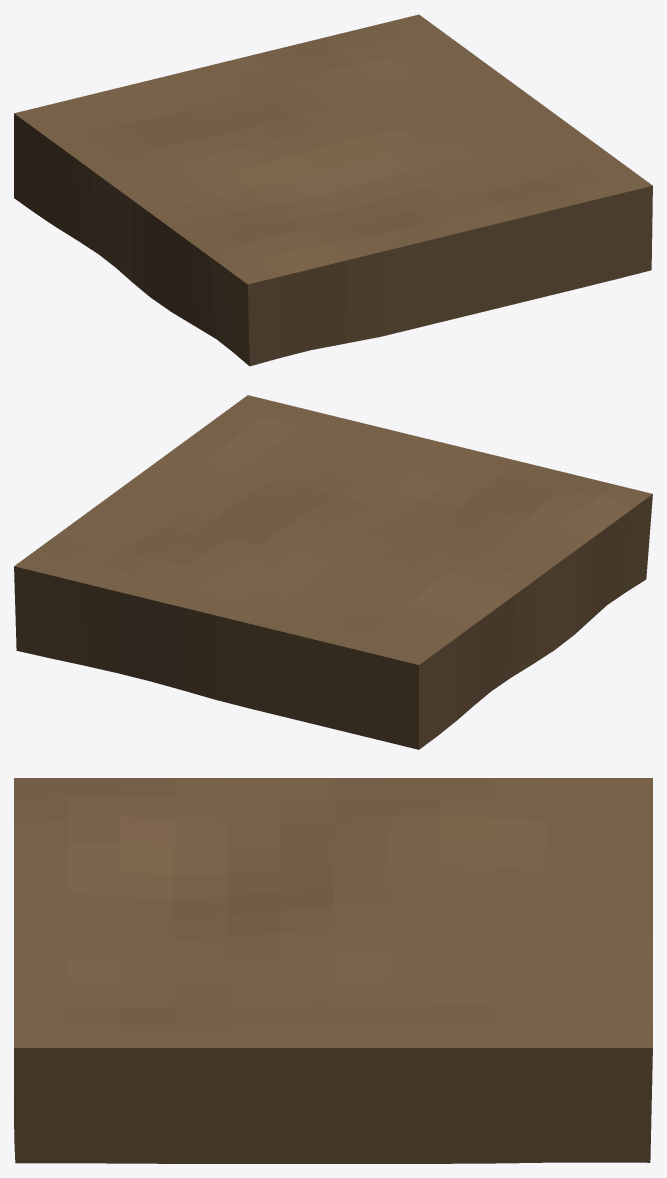
File: dirt_03.glb
3 views of the same model, one above another, from view 1: azimuth 30°, elevation 25°; view 2: azimuth 150°, elevation 25°; view 3: azimuth 270°, elevation 25° (orthographic). The views are drawn at different scales.
Parts seen in each view (by area): view 1: Grid; view 2: Grid; view 3: Grid.
Boxes of the visible parts, x1,y1,x2,y2 form: Grid: (14, 14, 652, 366); Grid: (14, 395, 652, 749); Grid: (14, 778, 652, 1163).
Size of the model in its own units: 1 by 0.2143 by 1.
